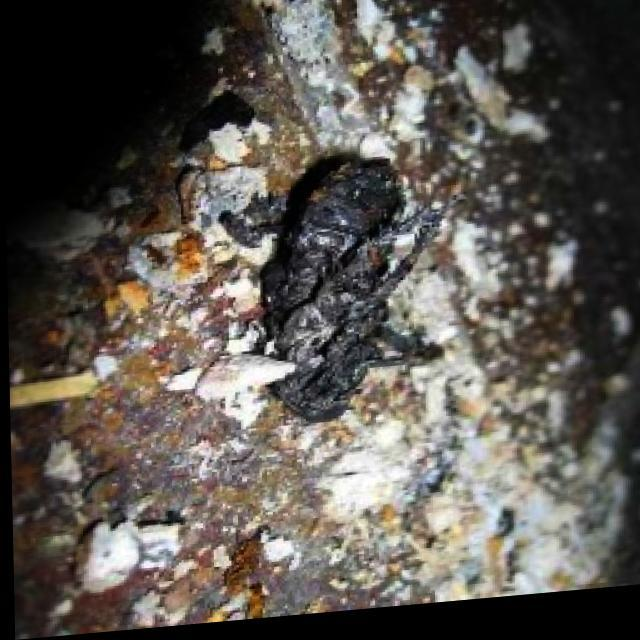cockroach: (240, 126, 485, 468)
